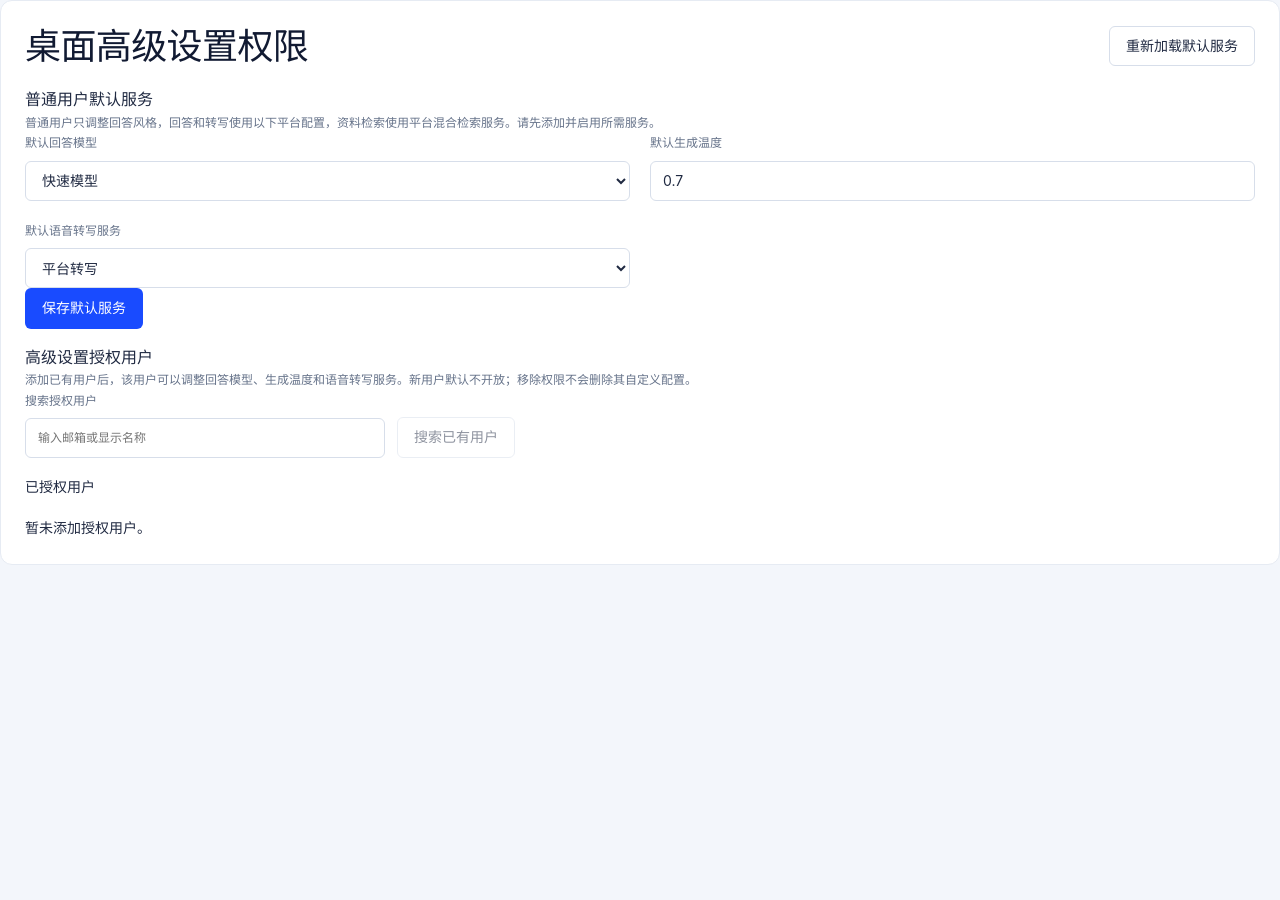
Scenario: desktop advanced settings policy › searches existing users and grants then removes one user independently
Expected: the text "暂未添加授权用户。" is shown, [25,519,151,536]
Type "candidate@example.test" into the field labelled "搜索授权用户" at x=205, y=438, box [25,418,385,458]
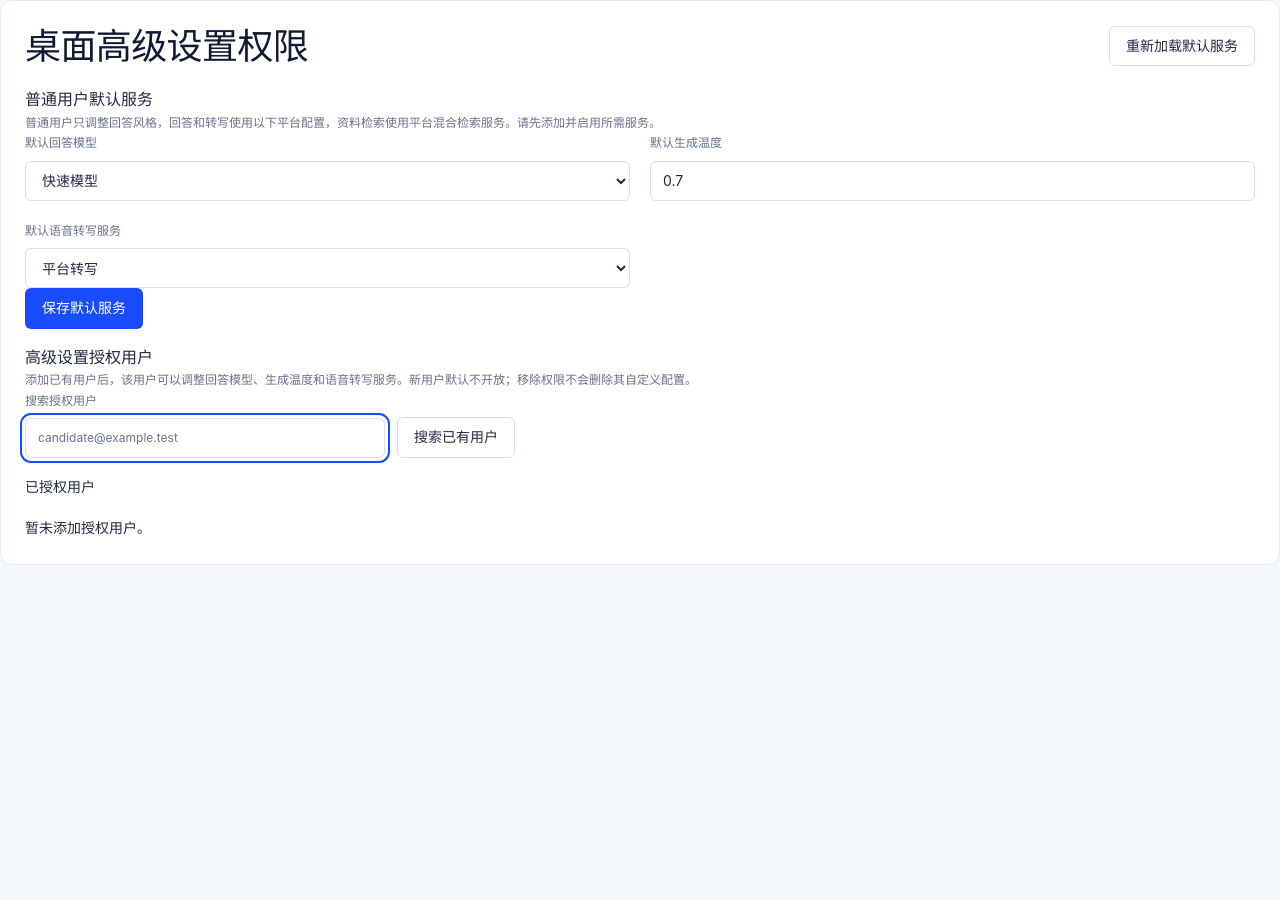
Click the button "搜索已有用户" at x=456, y=438, box [397,417,515,458]
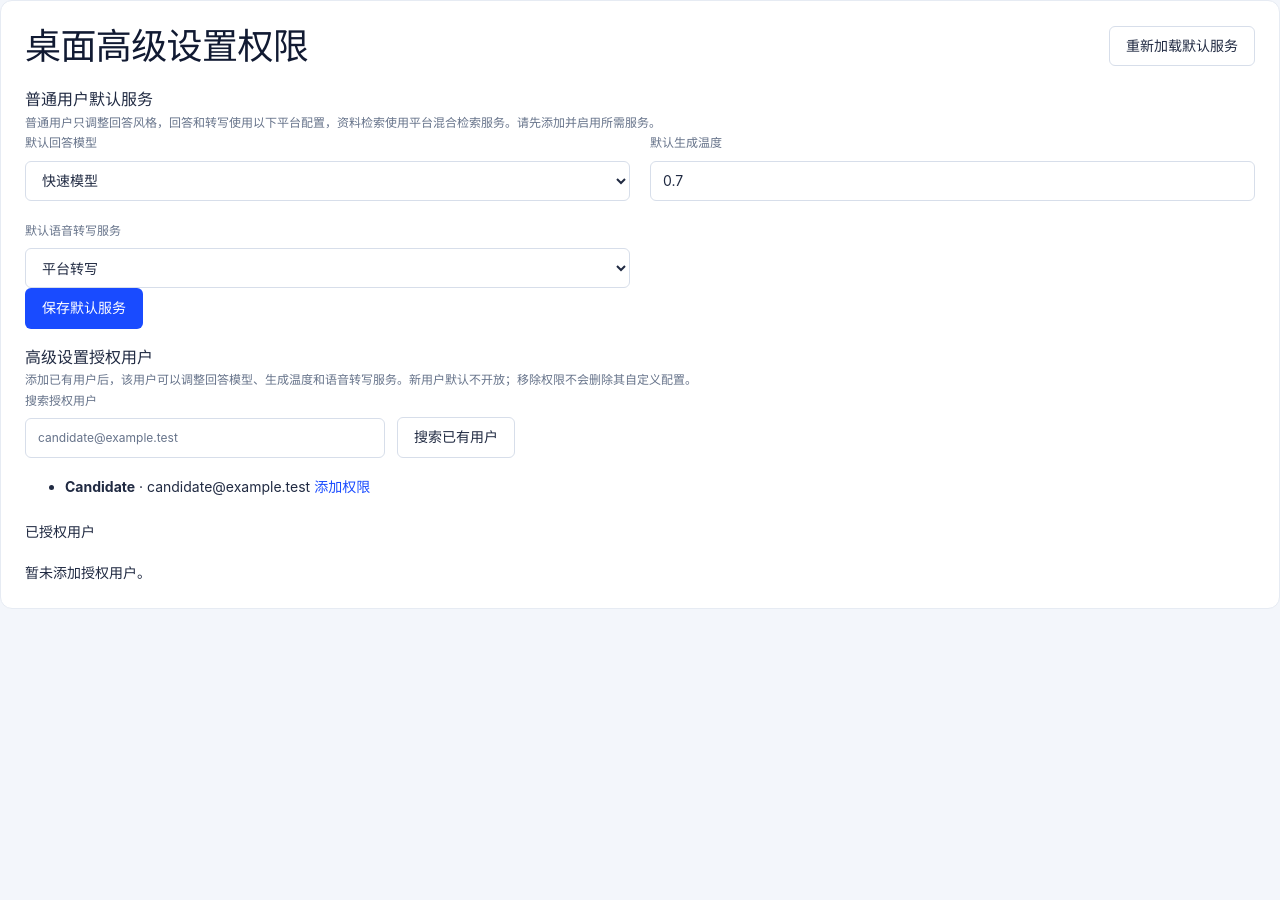
Click the button with aria-label "添加权限 Candidate" at x=342, y=487, box [310,472,374,502]
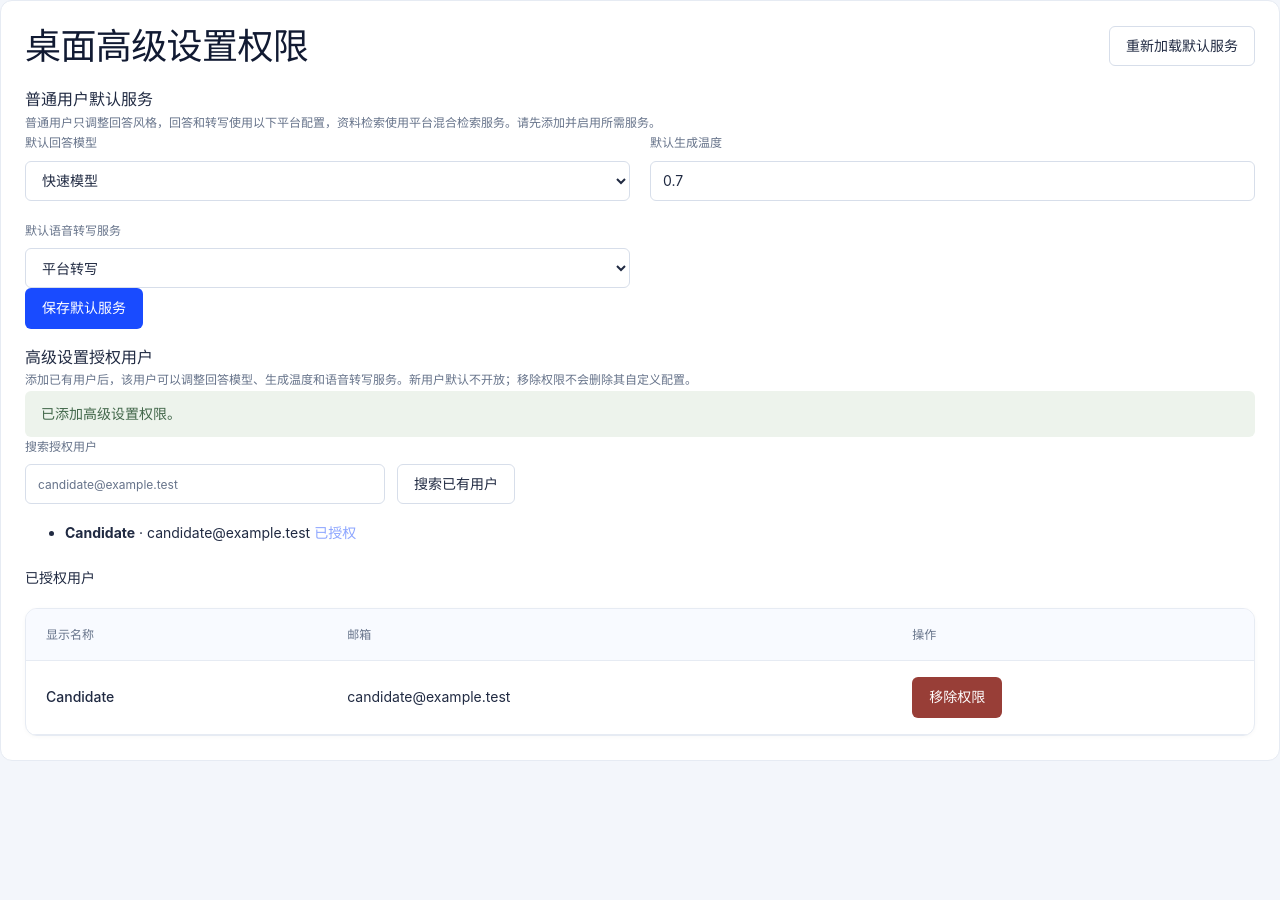
Expected: the table named "高级设置授权列表" shows "candidate@example.test", [347,688,510,705]
Expected: the button with aria-label "添加权限 Candidate" is disabled, [310,518,360,548]
Click the button with aria-label "移除权限 Candidate" at x=957, y=698, box [912,677,1002,718]
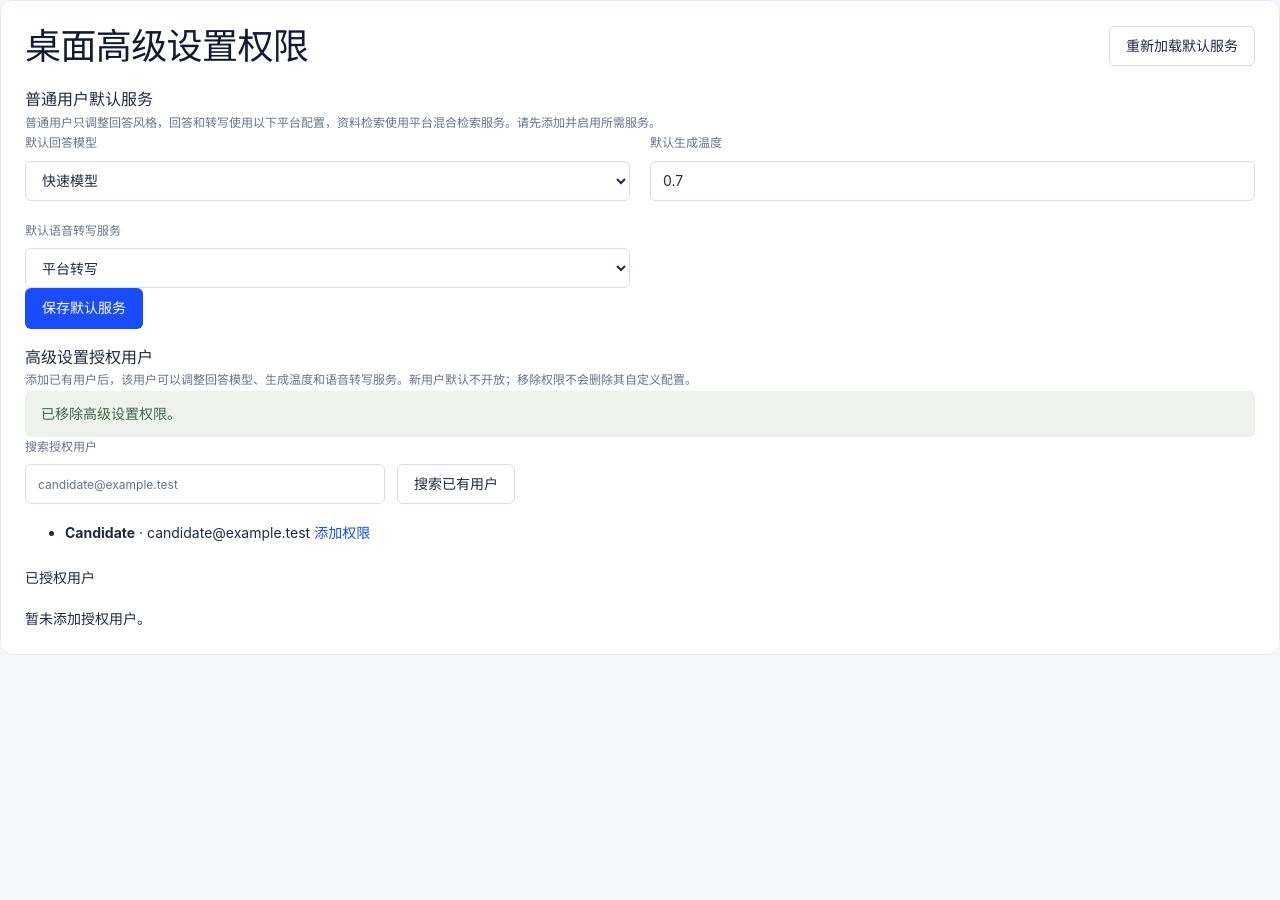
Expected: the text "暂未添加授权用户。" is shown, [25,610,151,627]
